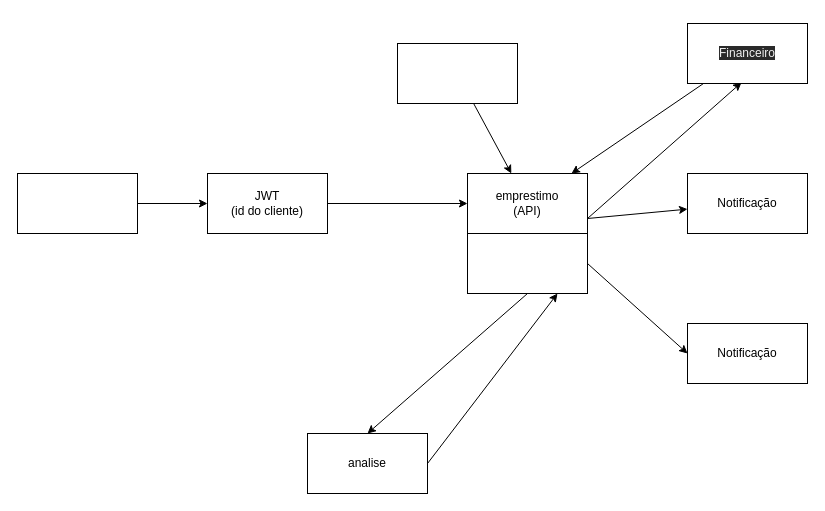
Image size: 825x511. Some labels were removed from this diagram. The shapes that lost their labels are listed below. From the top down, each one's centre as x and y in pixels, then its label:
pixel 457 73: Dashboard
pixel 77 203: login
pixel 527 263: JWT valor do emprestimo
